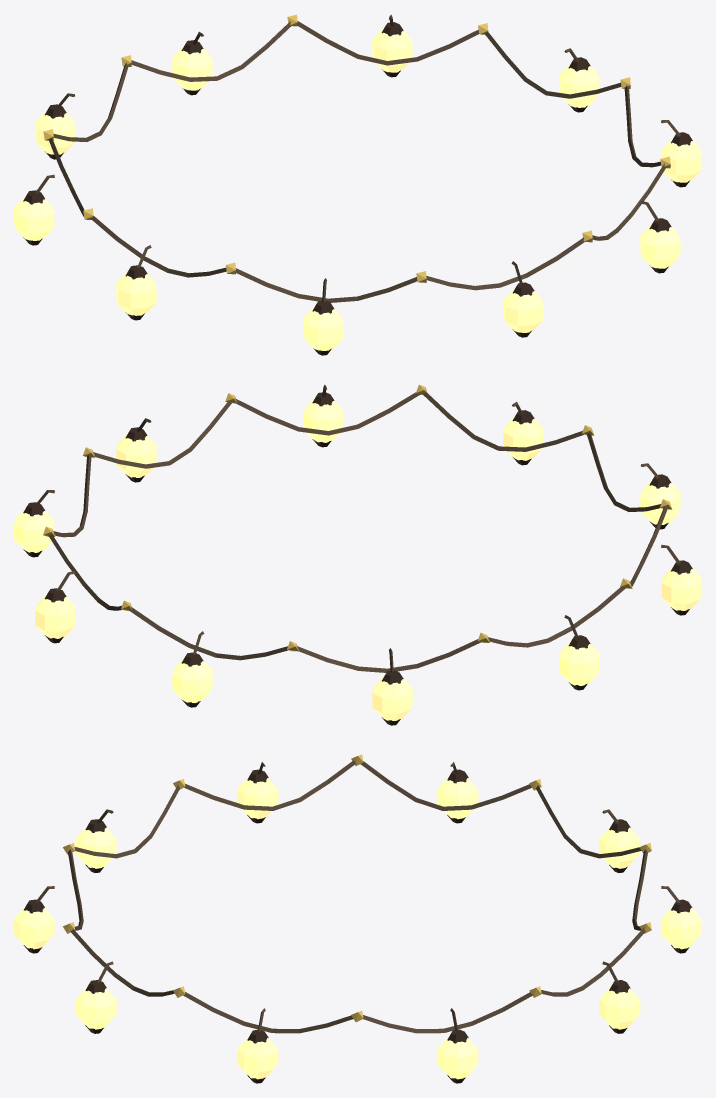
File: gd_balloon_lanterns.glb
3 renders of one model, top to bottom at view 1: azimuth 30°, elevation 25°; view 2: azimuth 150°, elevation 25°; view 3: azimuth 270°, elevation 25°, orthographic. The views are drawn at different scales.
Visible parts, largest first — view 1: base; view 2: base; view 3: base.
Boxes of the visible parts, x1,y1,x2,y2 form: base: (14,14,701,355); base: (14,384,701,725); base: (14,754,701,1083).
Size of the model in its own units: 0.643 by 0.0748 by 0.674.
